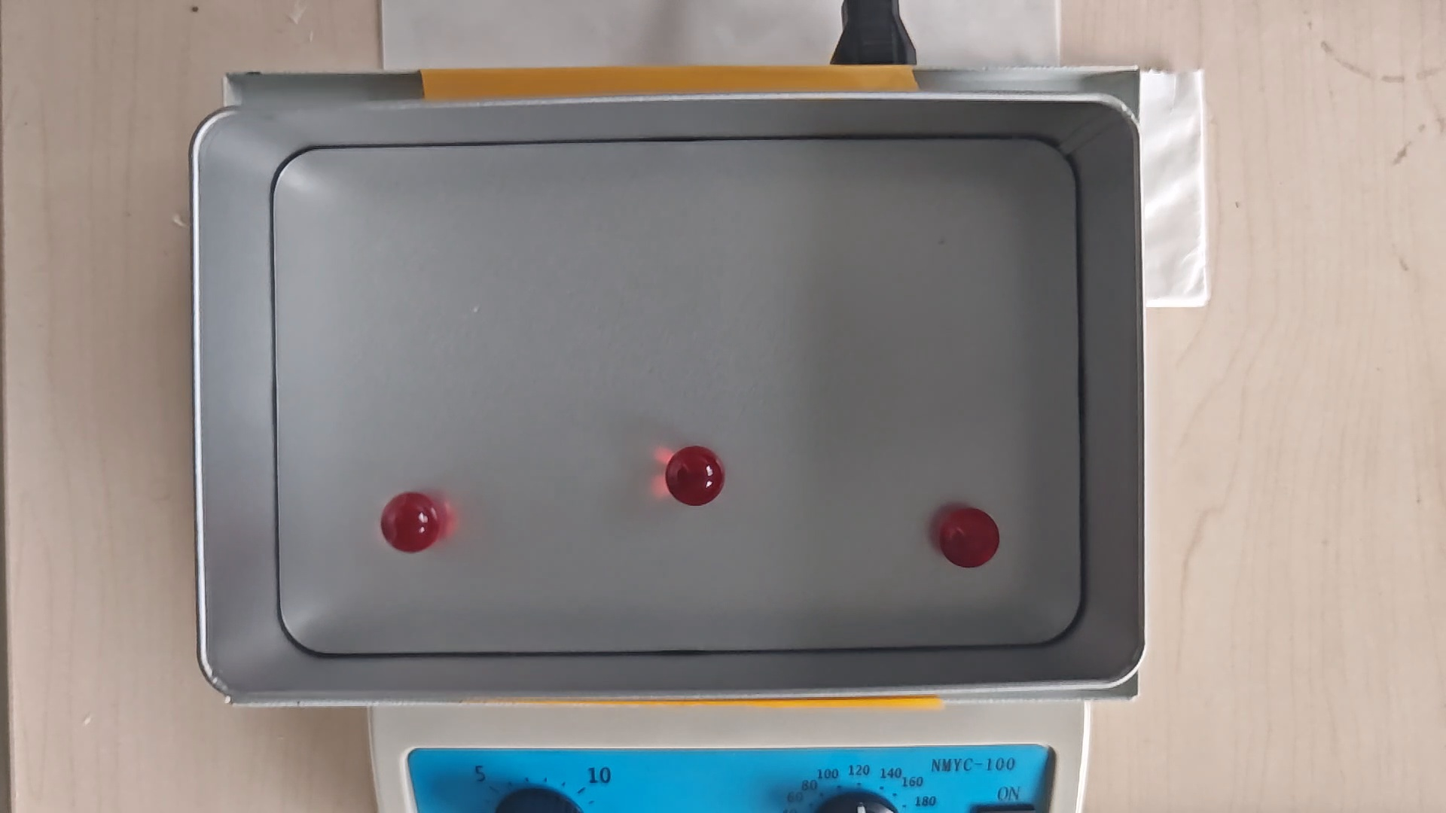ball: (665, 443, 726, 510), (381, 491, 438, 556), (940, 507, 999, 569)
container: (270, 140, 1085, 652)
